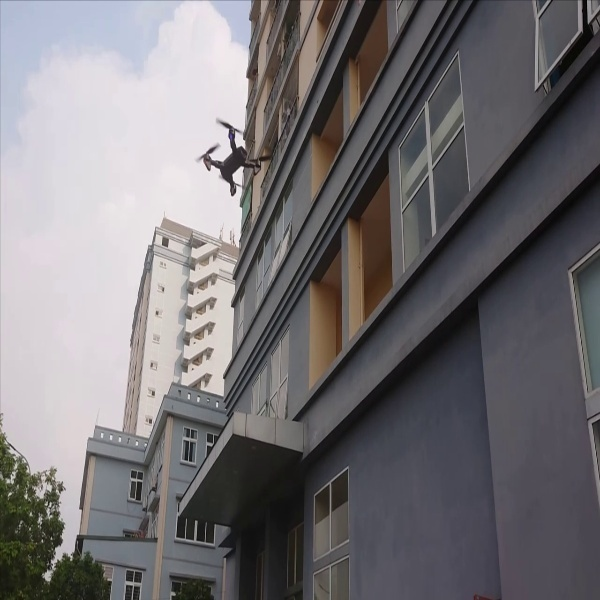drone: (190, 112, 278, 198)
